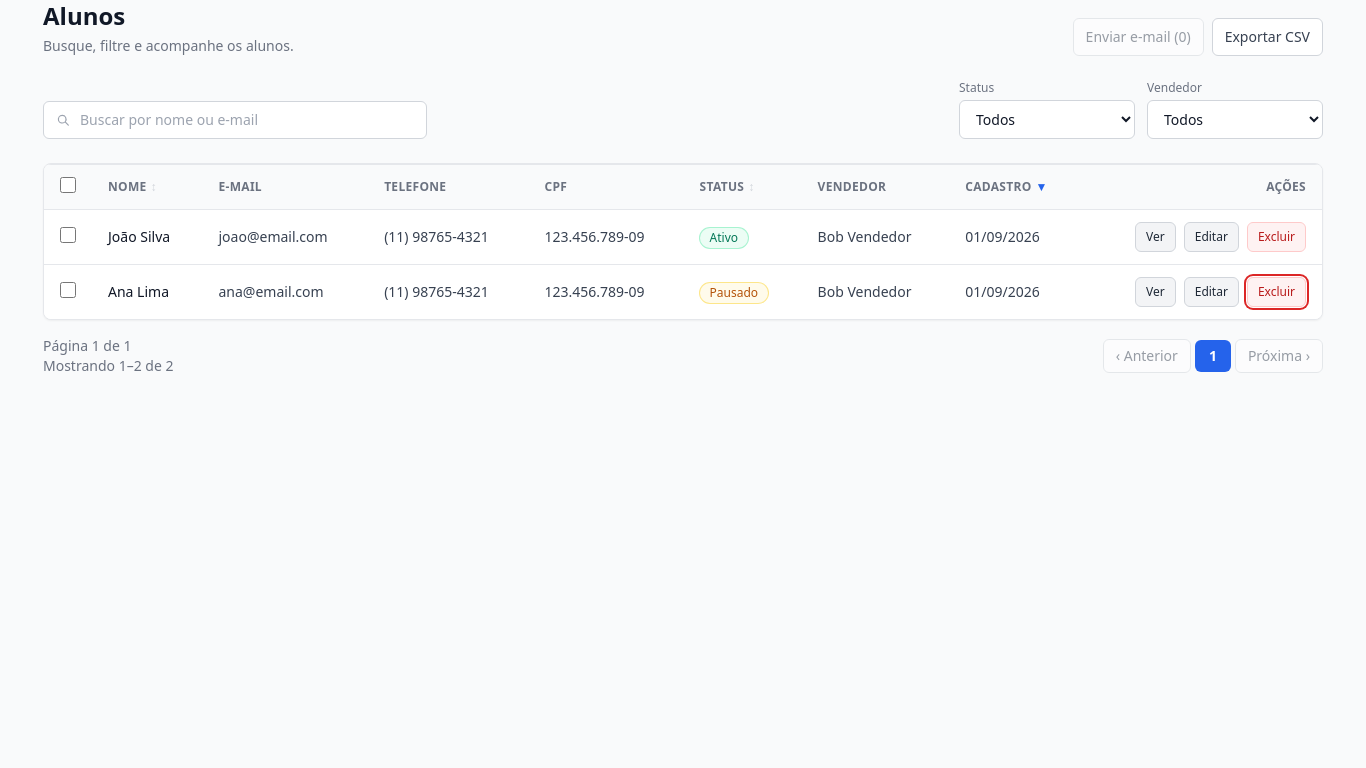
página de alunos › RBAC cosmético › 404 ao excluir também leva o foco ao título, não ao body
Click the button "Excluir" in the row of "Ana Lima" at (1276, 292), box [1247,277,1306,307]
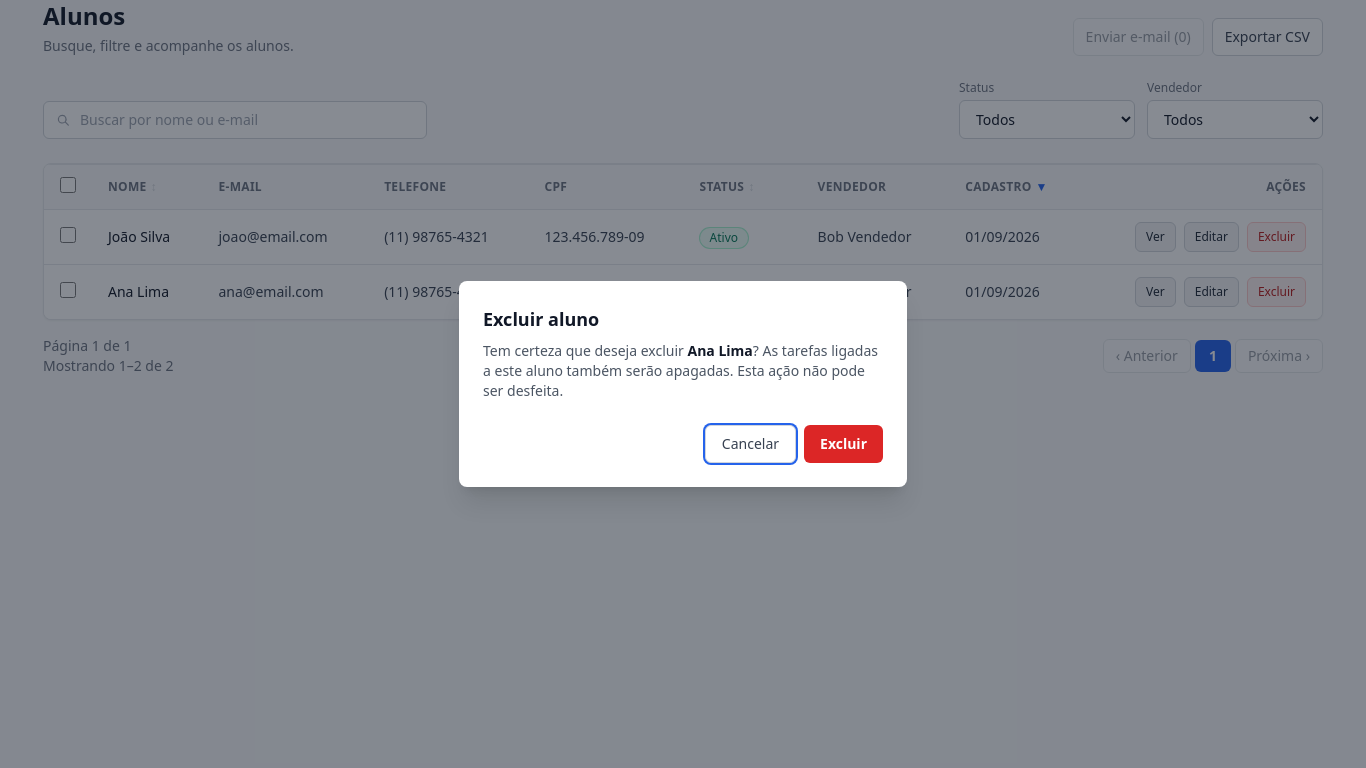
Click the button "Excluir" at (844, 444), box [804,425,883,463]
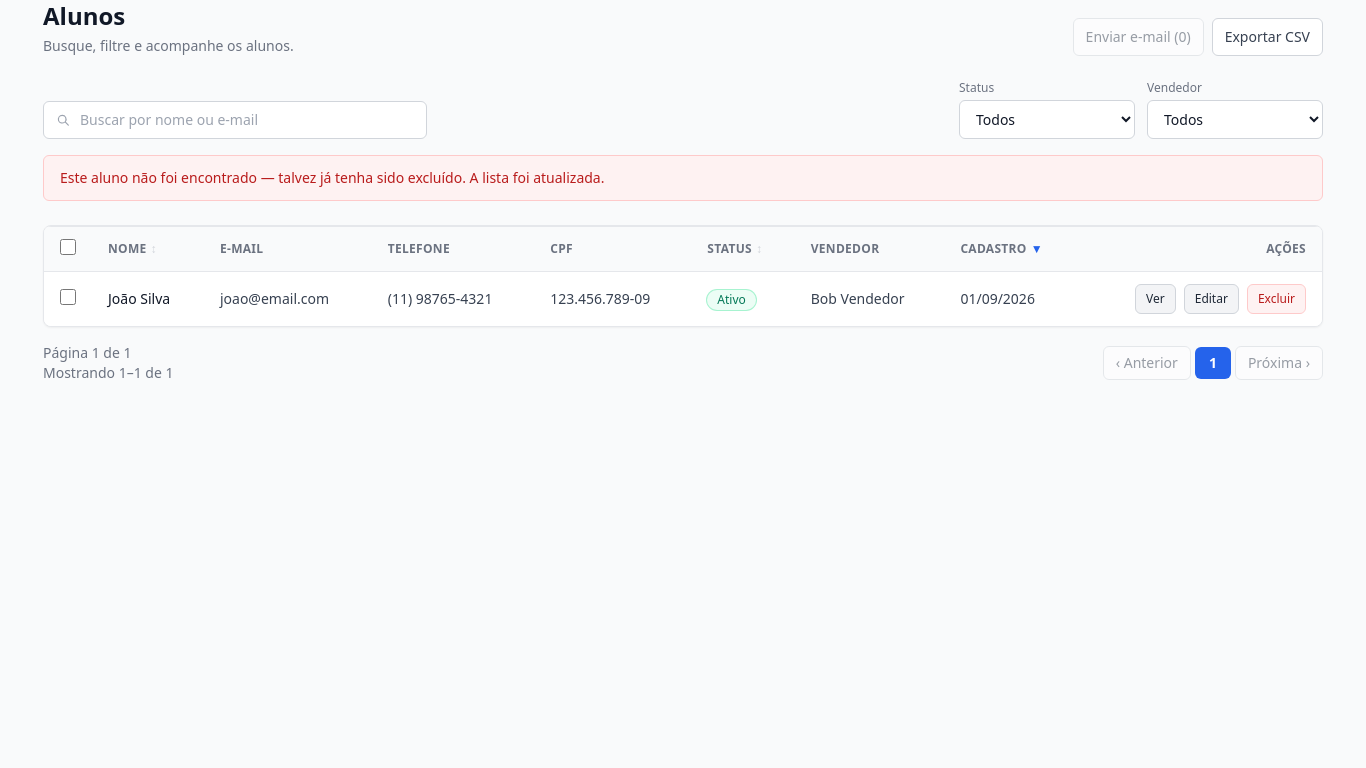
Result: the column heading "Ana Lima" is gone
